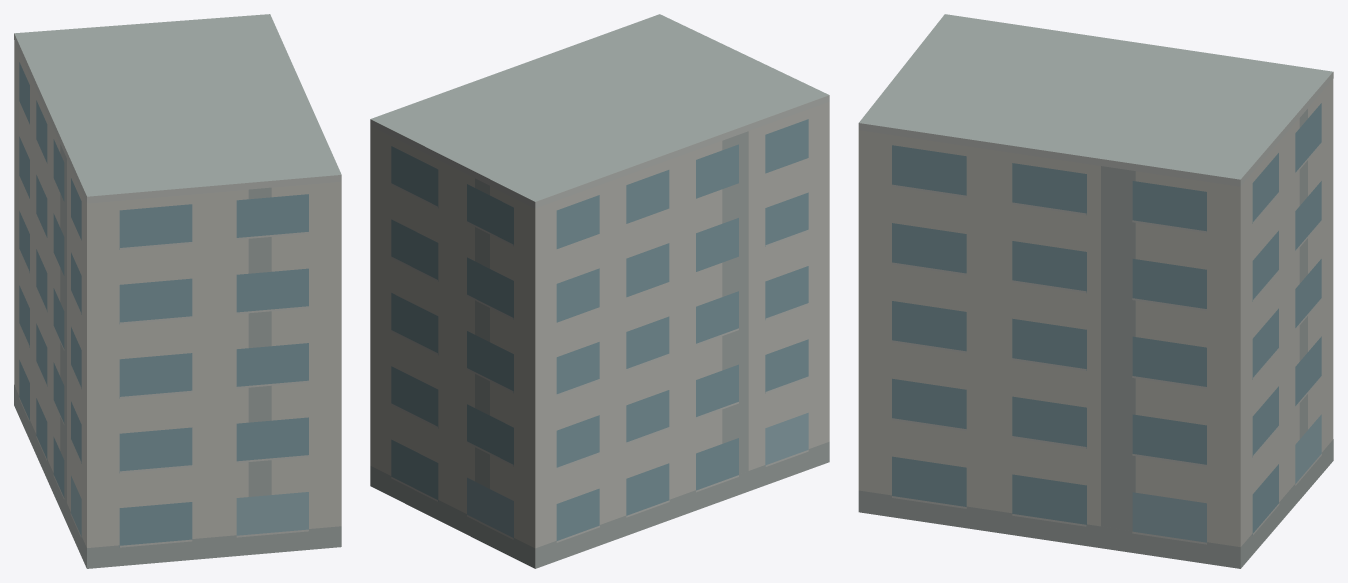
The model's file is survey-upis-32883310.glb.
The picture shows the model from 3 angles, left to right: view 1: azimuth 30°, elevation 25°; view 2: azimuth 150°, elevation 25°; view 3: azimuth 270°, elevation 25°; orthographic projection. The views are drawn at different scales.
Parts seen in each view (by area): view 1: survey-upis-32883310.tmp; view 2: survey-upis-32883310.tmp; view 3: survey-upis-32883310.tmp.
Boxes of the visible parts, bbox=[...] form: survey-upis-32883310.tmp: bbox=[14, 14, 341, 568]; survey-upis-32883310.tmp: bbox=[370, 14, 829, 568]; survey-upis-32883310.tmp: bbox=[858, 14, 1333, 568].
Size of the model in its own units: 12.28 by 13.45 by 14.88.
